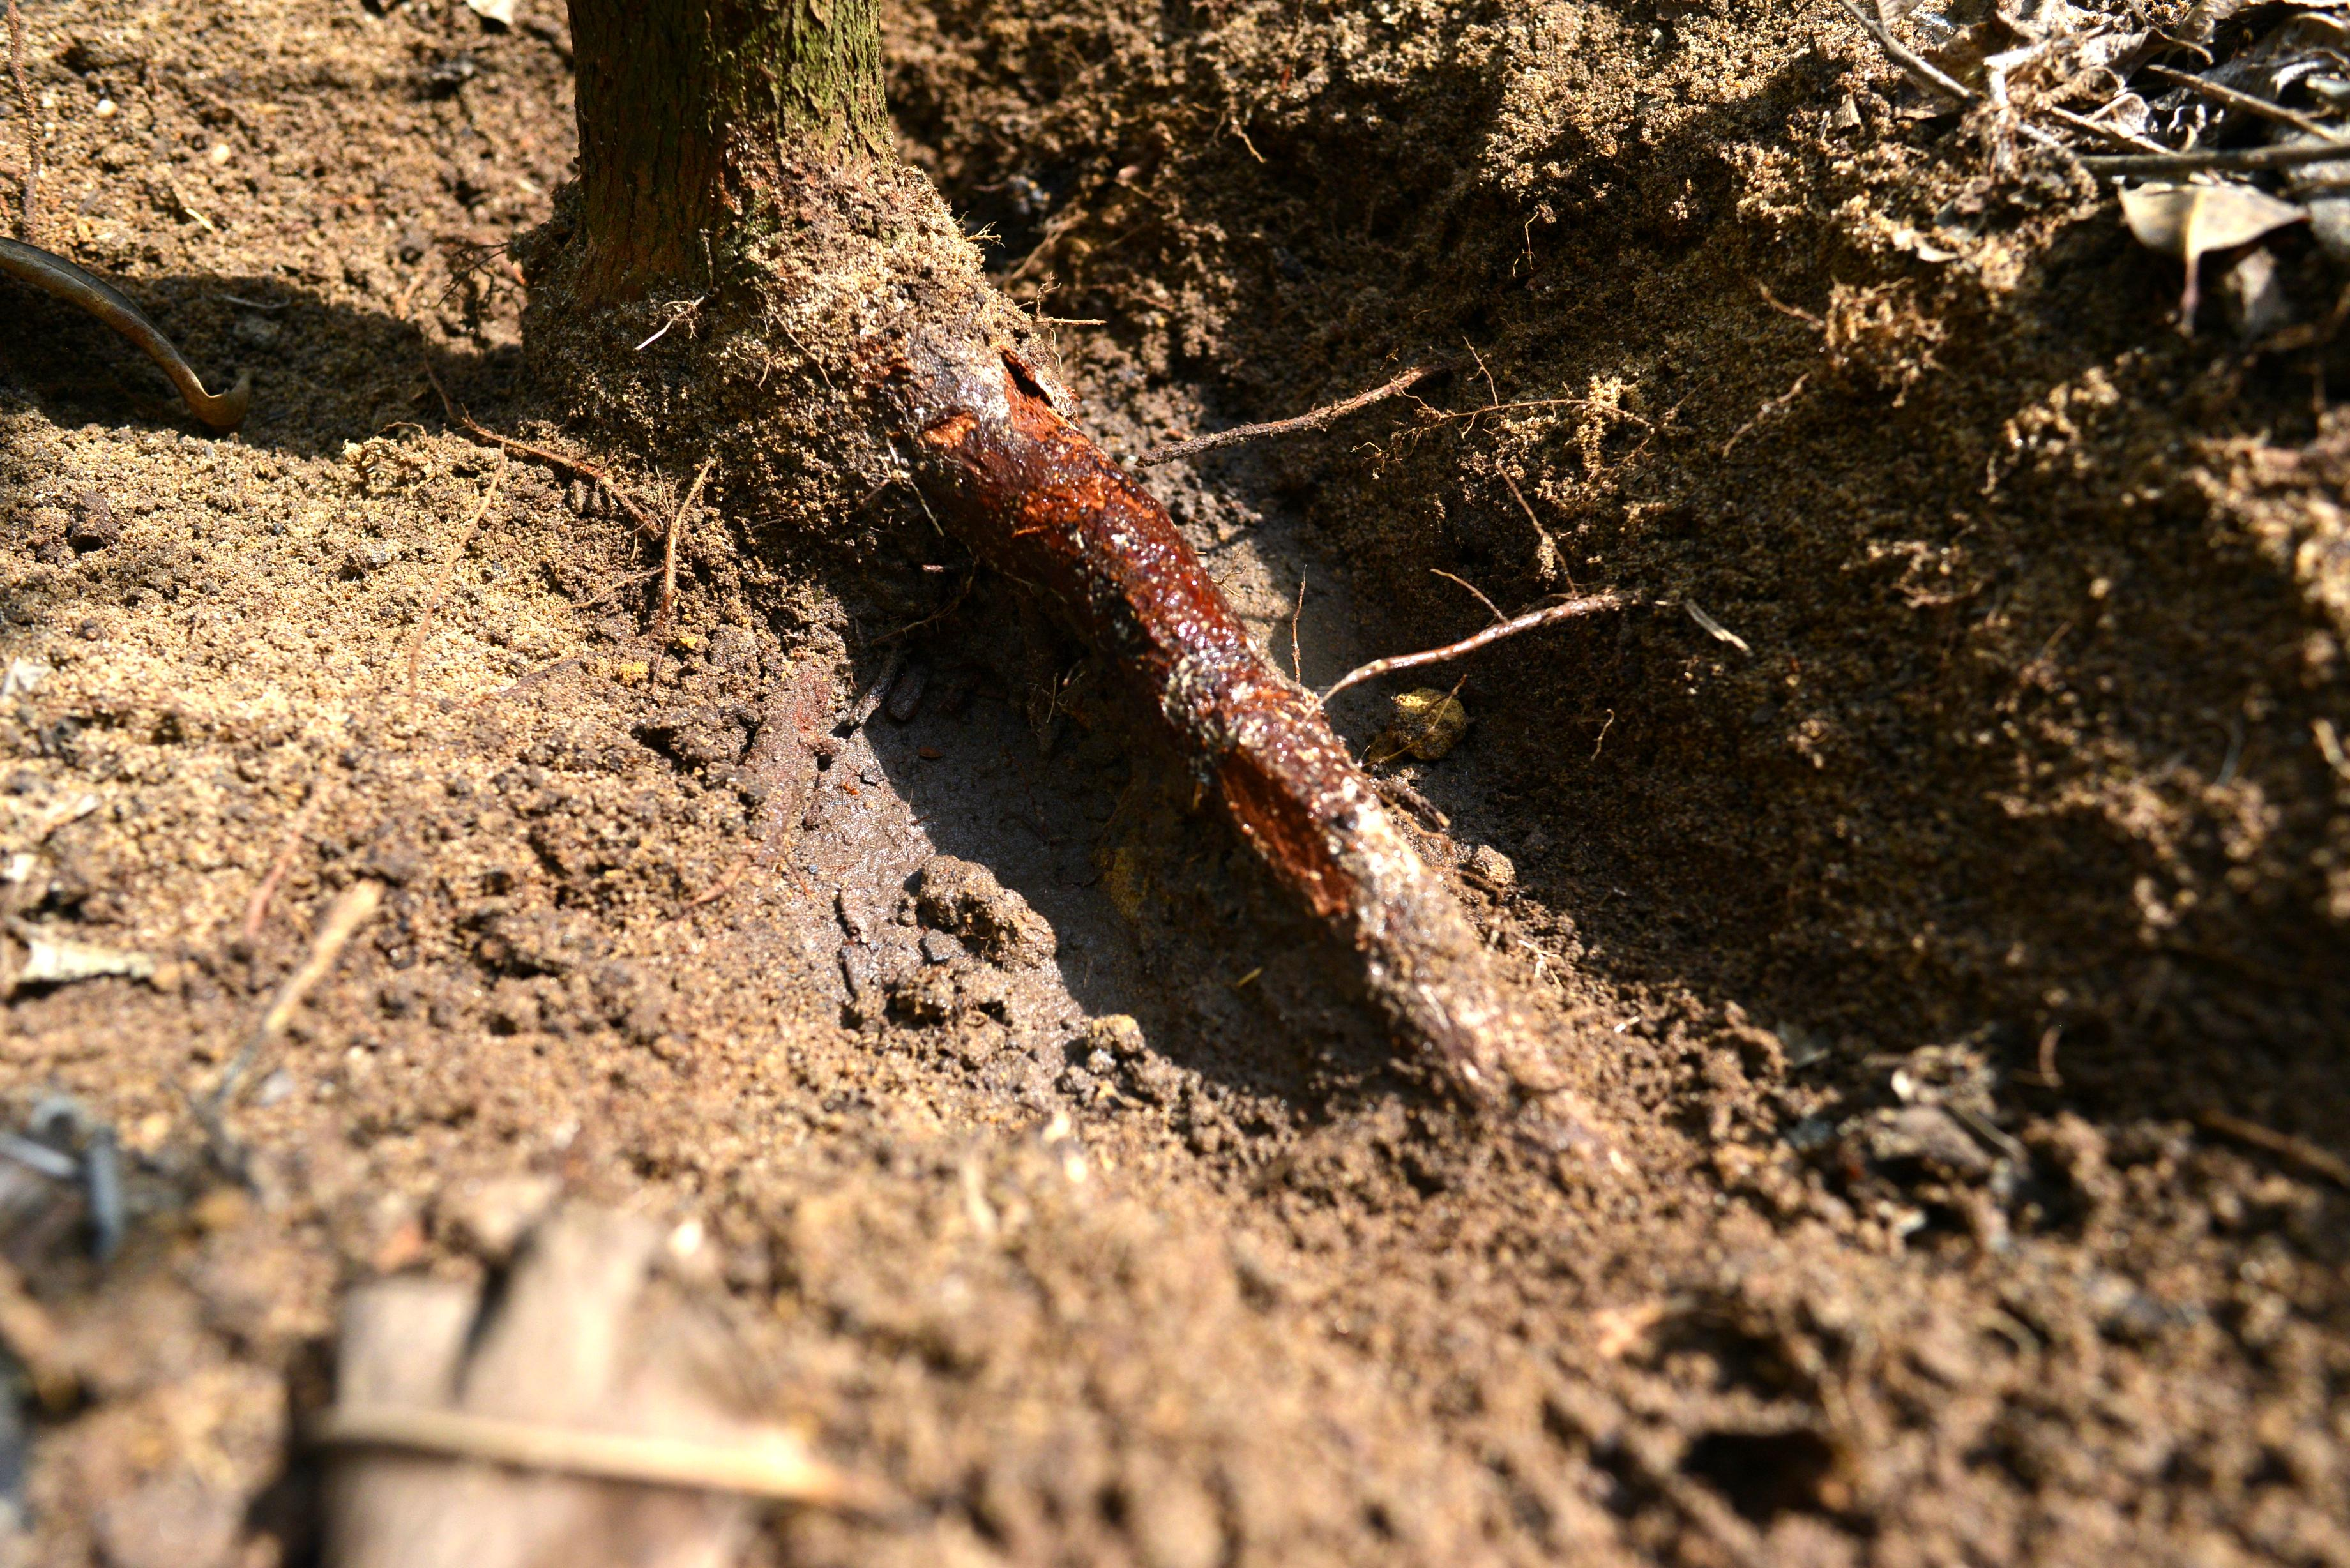Ganoderma - Mycelium: (1311, 793, 1640, 1204), (812, 177, 1006, 402)
Red Root Rot - Secretion: (910, 415, 1445, 779)
